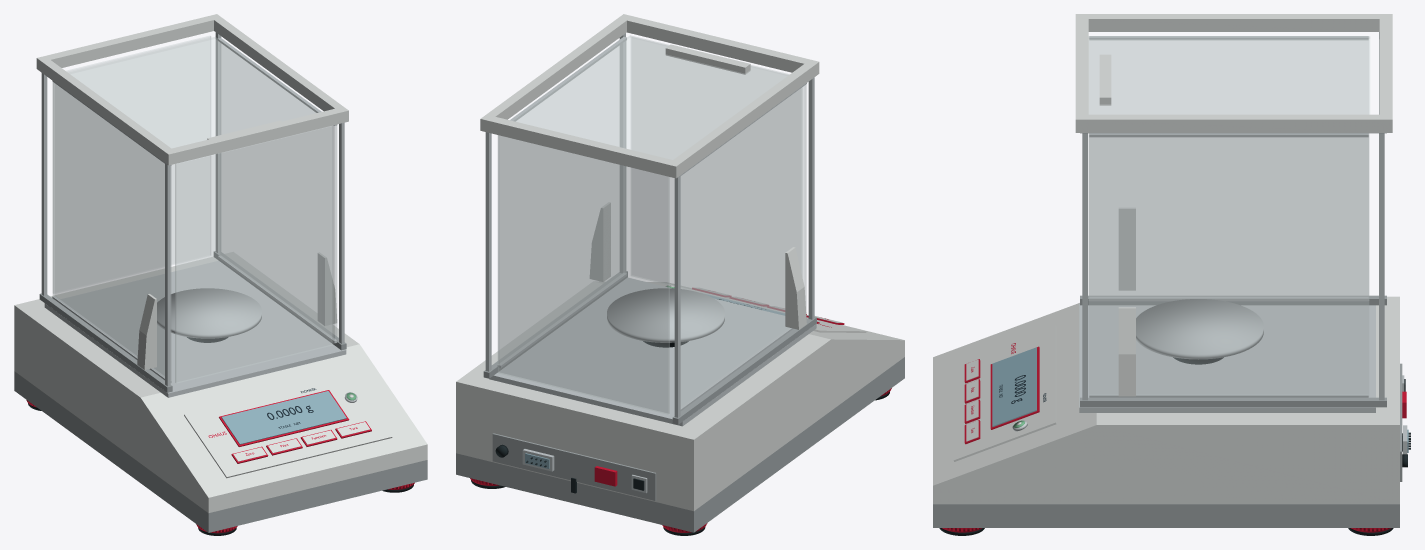
File: analytical_balance.glb
3 views of the same model, side by side, from view 1: azimuth 30°, elevation 25°; view 2: azimuth 150°, elevation 25°; view 3: azimuth 270°, elevation 25° (orthographic). The views are drawn at different scales.
Visible parts, largest first — view 1: PX224E__front_glass__glass, PX224E__housing__upper_shell, PX224E__rear_glass__glass, PX224E__door_right__glass, PX224E__door_left__glass, PX224E__chamber_floor__floor, PX224E__door_top__glass, PX224E__housing__lower_shell, PX224E__control_panel__face, PX224E__pan__pan, PX224E__control_panel__LCD_surface, PX224E__antistatic_bar__bar (+15 smaller); view 2: PX224E__rear_glass__glass, PX224E__front_glass__glass, PX224E__housing__upper_shell, PX224E__door_left__glass, PX224E__door_right__glass, PX224E__chamber_floor__floor, PX224E__door_top__glass, PX224E__housing__lower_shell, PX224E__pan__pan, PX224E__draftshield_frame__top_rear_crossbar, PX224E__rear_ports__connector_panel, PX224E__antistatic_bar__bar (+15 smaller); view 3: PX224E__door_right__glass, PX224E__door_left__glass, PX224E__housing__upper_shell, PX224E__door_top__glass, PX224E__chamber_floor__floor, PX224E__housing__lower_shell, PX224E__pan__pan, PX224E__control_panel__face, PX224E__draftshield_frame__top_side_rail.001, PX224E__draftshield_frame__top_side_rail, PX224E__draftshield_frame__side_track.002, PX224E__control_panel__LCD_surface (+12 smaller).
Boxes of the visible parts, x1=… form: PX224E__front_glass__glass: x1=175, y1=126, x2=333, y2=383; PX224E__housing__upper_shell: x1=14, y1=252, x2=427, y2=513; PX224E__rear_glass__glass: x1=53, y1=36, x2=210, y2=293; PX224E__door_right__glass: x1=218, y1=42, x2=336, y2=342; PX224E__door_left__glass: x1=53, y1=82, x2=171, y2=382; PX224E__chamber_floor__floor: x1=44, y1=260, x2=346, y2=397; PX224E__door_top__glass: x1=68, y1=37, x2=318, y2=148; PX224E__housing__lower_shell: x1=14, y1=371, x2=427, y2=532; PX224E__control_panel__face: x1=184, y1=374, x2=392, y2=478; PX224E__pan__pan: x1=157, y1=288, x2=261, y2=338; PX224E__control_panel__LCD_surface: x1=221, y1=391, x2=346, y2=444; PX224E__antistatic_bar__bar: x1=163, y1=106, x2=348, y2=165; PX224E__rear_glass__glass: x1=498, y1=135, x2=669, y2=414; PX224E__front_glass__glass: x1=631, y1=37, x2=802, y2=313; PX224E__housing__upper_shell: x1=456, y1=281, x2=904, y2=511; PX224E__door_left__glass: x1=681, y1=84, x2=806, y2=408; PX224E__door_right__glass: x1=498, y1=41, x2=626, y2=367; PX224E__chamber_floor__floor: x1=489, y1=277, x2=816, y2=426; PX224E__door_top__glass: x1=514, y1=35, x2=789, y2=159; PX224E__housing__lower_shell: x1=456, y1=357, x2=904, y2=532; PX224E__pan__pan: x1=607, y1=288, x2=724, y2=342; PX224E__draftshield_frame__top_rear_crossbar: x1=480, y1=114, x2=681, y2=178; PX224E__rear_ports__connector_panel: x1=492, y1=433, x2=656, y2=500; PX224E__antistatic_bar__bar: x1=619, y1=14, x2=819, y2=75; PX224E__door_right__glass: x1=1089, y1=137, x2=1368, y2=395; PX224E__door_left__glass: x1=1089, y1=40, x2=1368, y2=297; PX224E__housing__upper_shell: x1=933, y1=296, x2=1399, y2=504; PX224E__door_top__glass: x1=1089, y1=36, x2=1369, y2=114; PX224E__chamber_floor__floor: x1=1079, y1=303, x2=1375, y2=412; PX224E__housing__lower_shell: x1=933, y1=504, x2=1399, y2=527; PX224E__pan__pan: x1=1136, y1=299, x2=1263, y2=359; PX224E__control_panel__face: x1=953, y1=325, x2=1056, y2=461; PX224E__draftshield_frame__top_side_rail.001: x1=1082, y1=114, x2=1384, y2=132; PX224E__draftshield_frame__top_side_rail: x1=1082, y1=14, x2=1384, y2=31; PX224E__draftshield_frame__side_track.002: x1=1080, y1=397, x2=1386, y2=407; PX224E__control_panel__LCD_surface: x1=992, y1=347, x2=1036, y2=426.
Size of the model in its own units: 0.209 by 0.309 by 0.3285.
